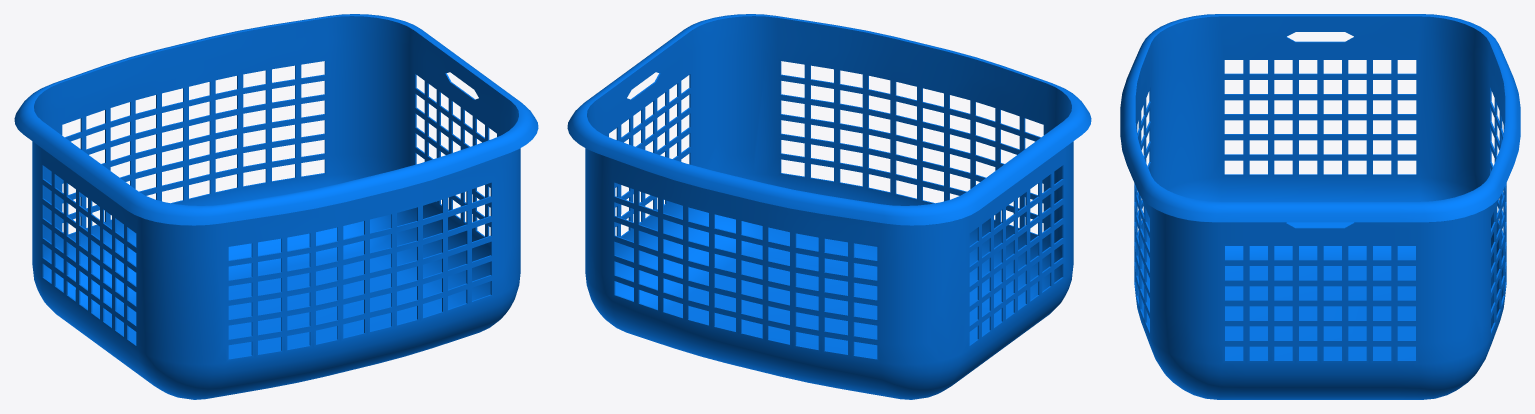
The model's file is laundry_basket.glb.
3 views of the same model, side by side, from view 1: azimuth 30°, elevation 25°; view 2: azimuth 150°, elevation 25°; view 3: azimuth 270°, elevation 25° (orthographic). The views are drawn at different scales.
Parts seen in each view (by area): view 1: Object_2; view 2: Object_2; view 3: Object_2.
Part boxes in pixels (<box>): Object_2: <box>14,14,538,399</box>; Object_2: <box>567,14,1091,399</box>; Object_2: <box>1120,14,1520,399</box>.
Size of the model in its own units: 2.97 by 1.5 by 2.5.
